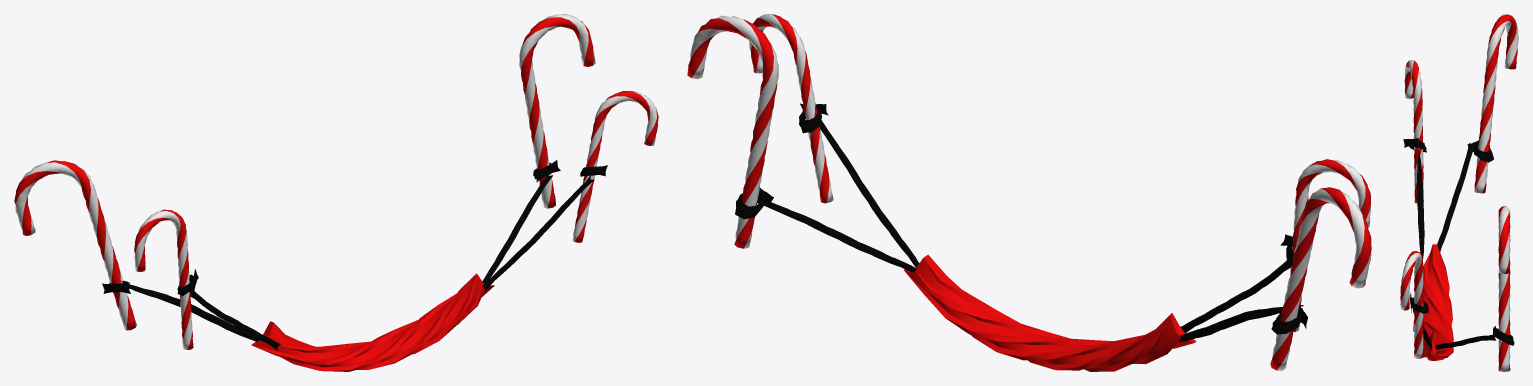
The model's file is candy cane bridge.fbx.
3 renders of one model, left to right at view 1: azimuth 30°, elevation 25°; view 2: azimuth 150°, elevation 25°; view 3: azimuth 270°, elevation 25°, orthographic. The views are drawn at different scales.
Parts seen in each view (by area): view 1: candy_Cane1; view 2: candy_Cane1; view 3: candy_Cane1.
Boxes of the visible parts, <box> form: candy_Cane1: <box>14,14,658,371</box>; candy_Cane1: <box>687,14,1371,371</box>; candy_Cane1: <box>1400,14,1518,371</box>.
Bounding box in the file's own units: 14.1 × 6.13 × 2.87.
